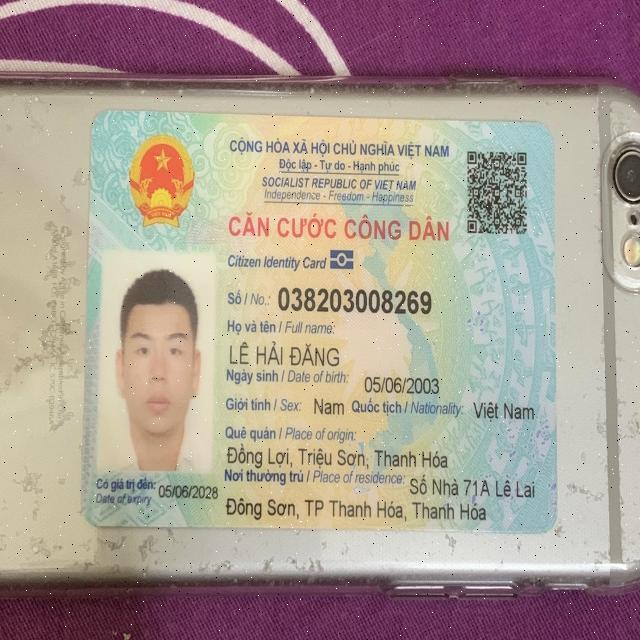current_place: (224, 494, 488, 523), (409, 471, 539, 501)
dob: (361, 374, 442, 397)
expire_date: (159, 481, 219, 502)
gender: (312, 396, 351, 421)
id: (273, 279, 432, 317)
name: (228, 335, 340, 368)
nationality: (469, 399, 537, 421)
origin_place: (227, 440, 449, 472)
